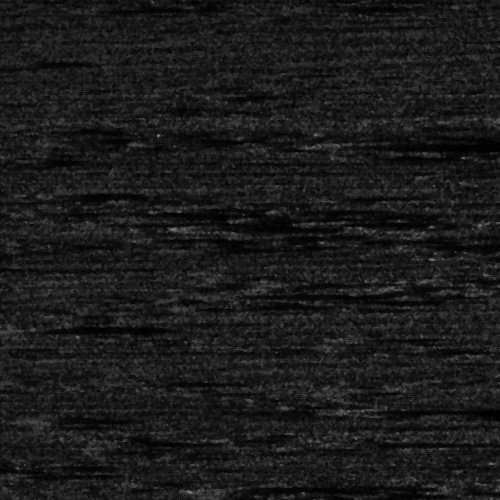object: (171, 288, 276, 297), (317, 405, 390, 416), (139, 218, 222, 227), (0, 323, 81, 332), (426, 250, 500, 259), (296, 140, 369, 149), (209, 485, 272, 494), (51, 4, 114, 11), (317, 439, 390, 444), (111, 378, 184, 383), (486, 142, 500, 161), (0, 415, 44, 420), (311, 336, 364, 339), (490, 248, 500, 253)
shadow: (180, 218, 453, 227), (332, 140, 500, 149), (354, 405, 477, 416), (241, 485, 380, 494), (40, 323, 175, 332), (224, 288, 358, 297), (82, 4, 206, 11), (354, 439, 477, 444), (18, 415, 110, 420), (148, 378, 231, 383), (468, 250, 500, 259), (0, 263, 37, 270), (337, 336, 412, 339)
